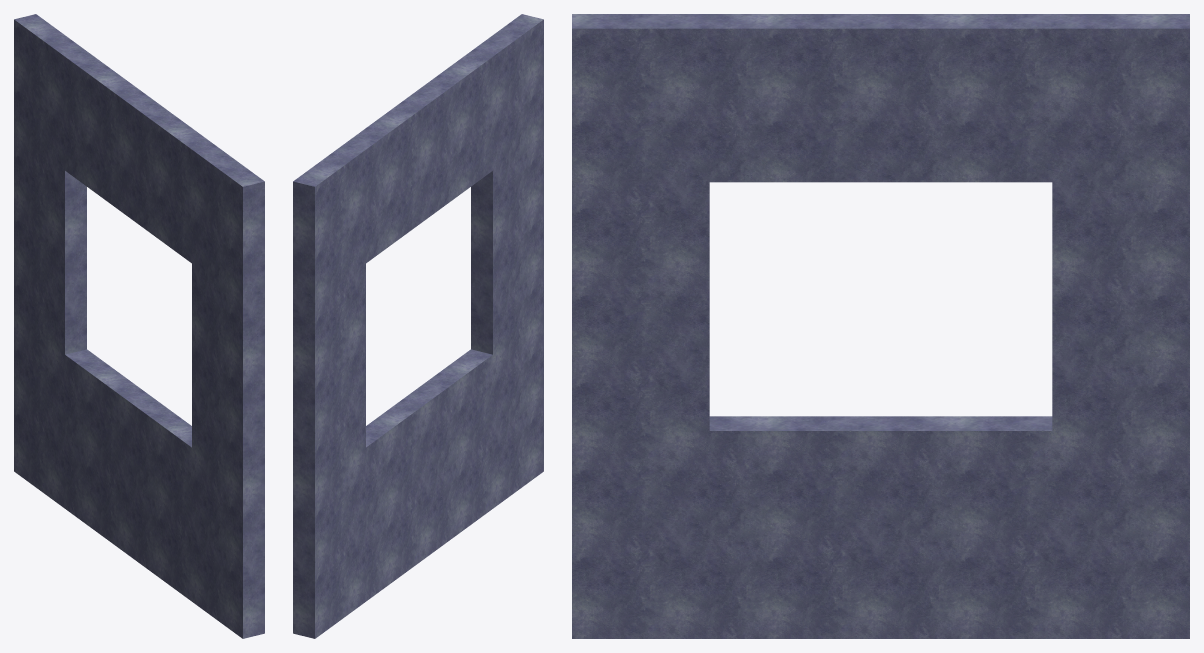
Rendered from soupwindwall005.glb.
The picture shows the model from 3 angles, left to right: view 1: azimuth 30°, elevation 25°; view 2: azimuth 150°, elevation 25°; view 3: azimuth 270°, elevation 25°; orthographic projection. The views are drawn at different scales.
Parts seen in each view (by area): view 1: soupwindwall005_high_1; view 2: soupwindwall005_high_1; view 3: soupwindwall005_high_1.
Part boxes in pixels (<box>): soupwindwall005_high_1: <box>14,14,264,638</box>; soupwindwall005_high_1: <box>293,14,543,638</box>; soupwindwall005_high_1: <box>572,14,1189,638</box>.
Size of the model in its own units: 0.1504 by 2.95 by 2.7.
Materials: 1 (1 with a texture image).
